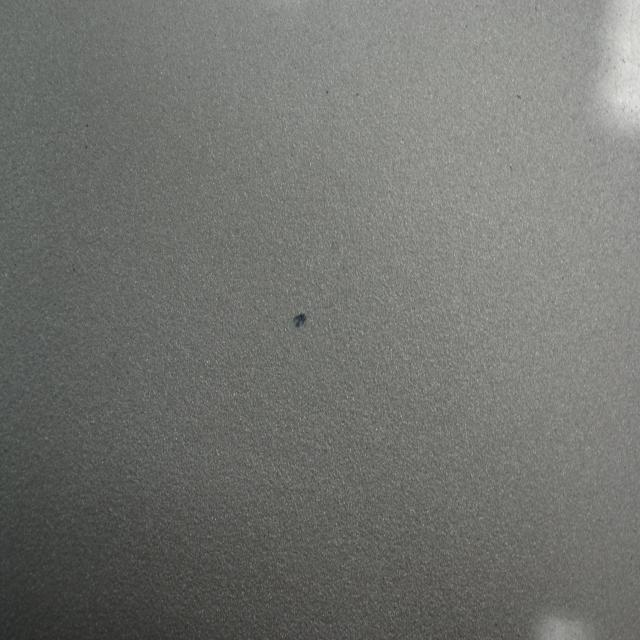dirt: (290, 306, 308, 332)
